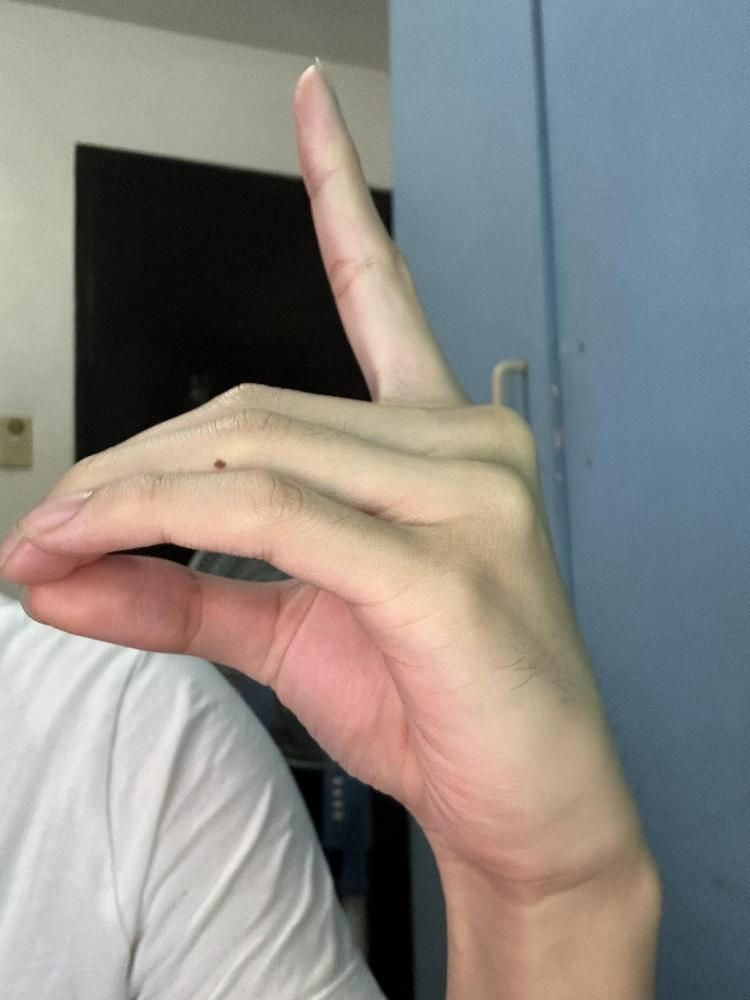d: (0, 51, 651, 897)
